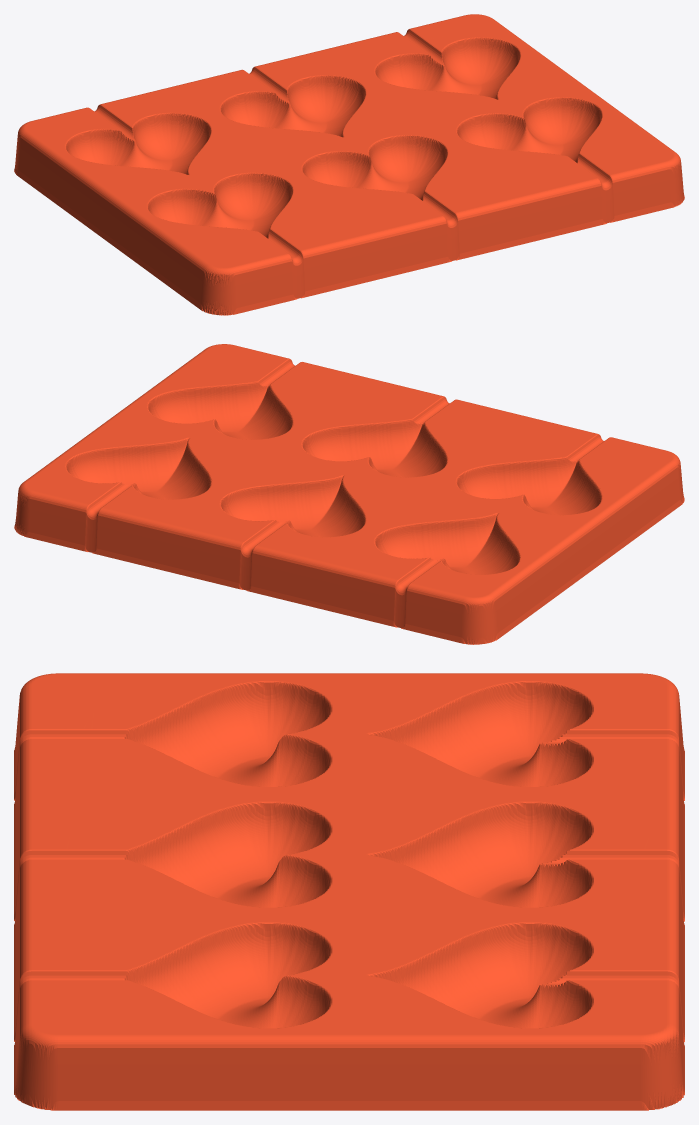
File: mold.glb
3 views of the same model, one above another, from view 1: azimuth 30°, elevation 25°; view 2: azimuth 150°, elevation 25°; view 3: azimuth 270°, elevation 25° (orthographic). The views are drawn at different scales.
Parts seen in each view (by area): view 1: geometry_0; view 2: geometry_0; view 3: geometry_0.
Boxes of the visible parts, box(x1,y1,x2,y2) form: geometry_0: box(14, 14, 684, 315); geometry_0: box(14, 344, 684, 644); geometry_0: box(14, 673, 684, 1110).
Bounding box in the file's own units: 0.1824 × 0.0155 × 0.1379.
